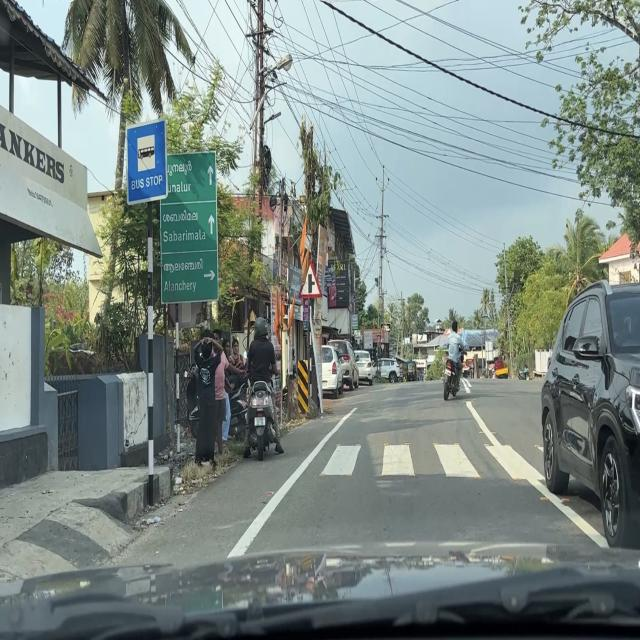GENERAL: (158, 150, 220, 304)
INFORMATION: (125, 118, 168, 204)
SIDE_ROAD_RIGHT: (298, 259, 324, 300)
